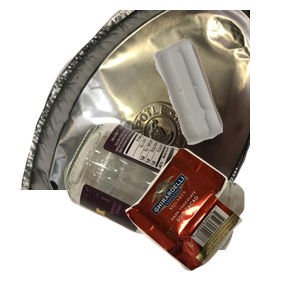glass: (62, 120, 300, 300)
metal: (18, 10, 258, 190)
plastic: (150, 36, 300, 173)
trash: (123, 145, 300, 300)
